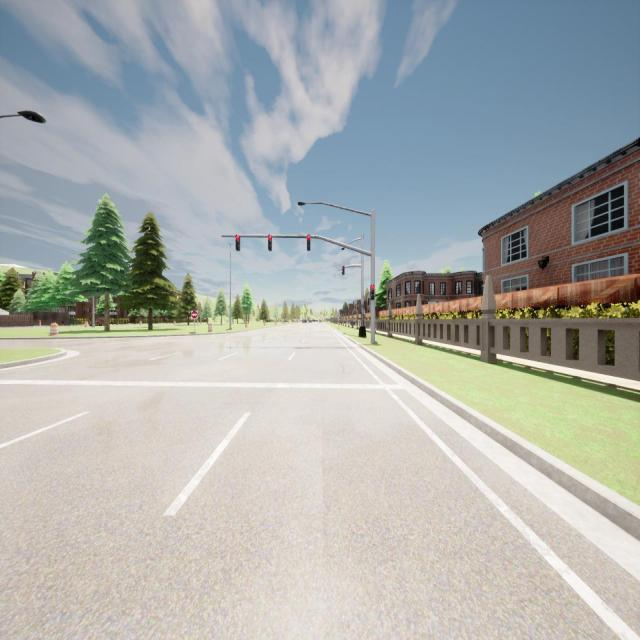Traffic_Signs: (191, 311, 198, 319), (337, 312, 340, 318)
Vehicle: (302, 318, 308, 323), (308, 319, 312, 324), (318, 319, 322, 324)
traffic_light: (370, 285, 375, 300), (268, 235, 272, 251), (236, 236, 240, 250), (307, 235, 310, 251), (340, 266, 344, 275)
